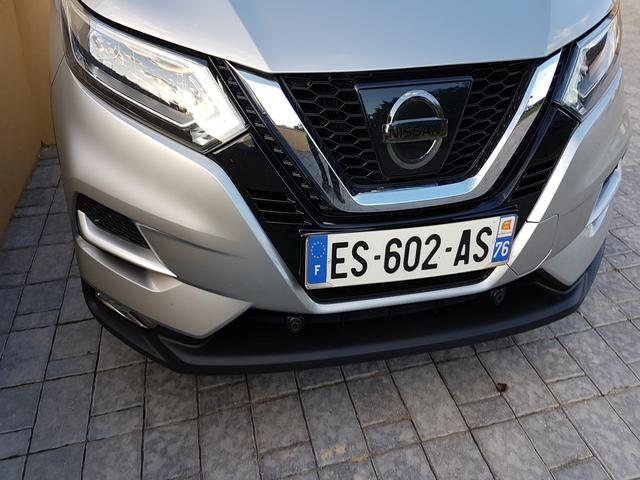Quashqai: (279, 194, 549, 296)
